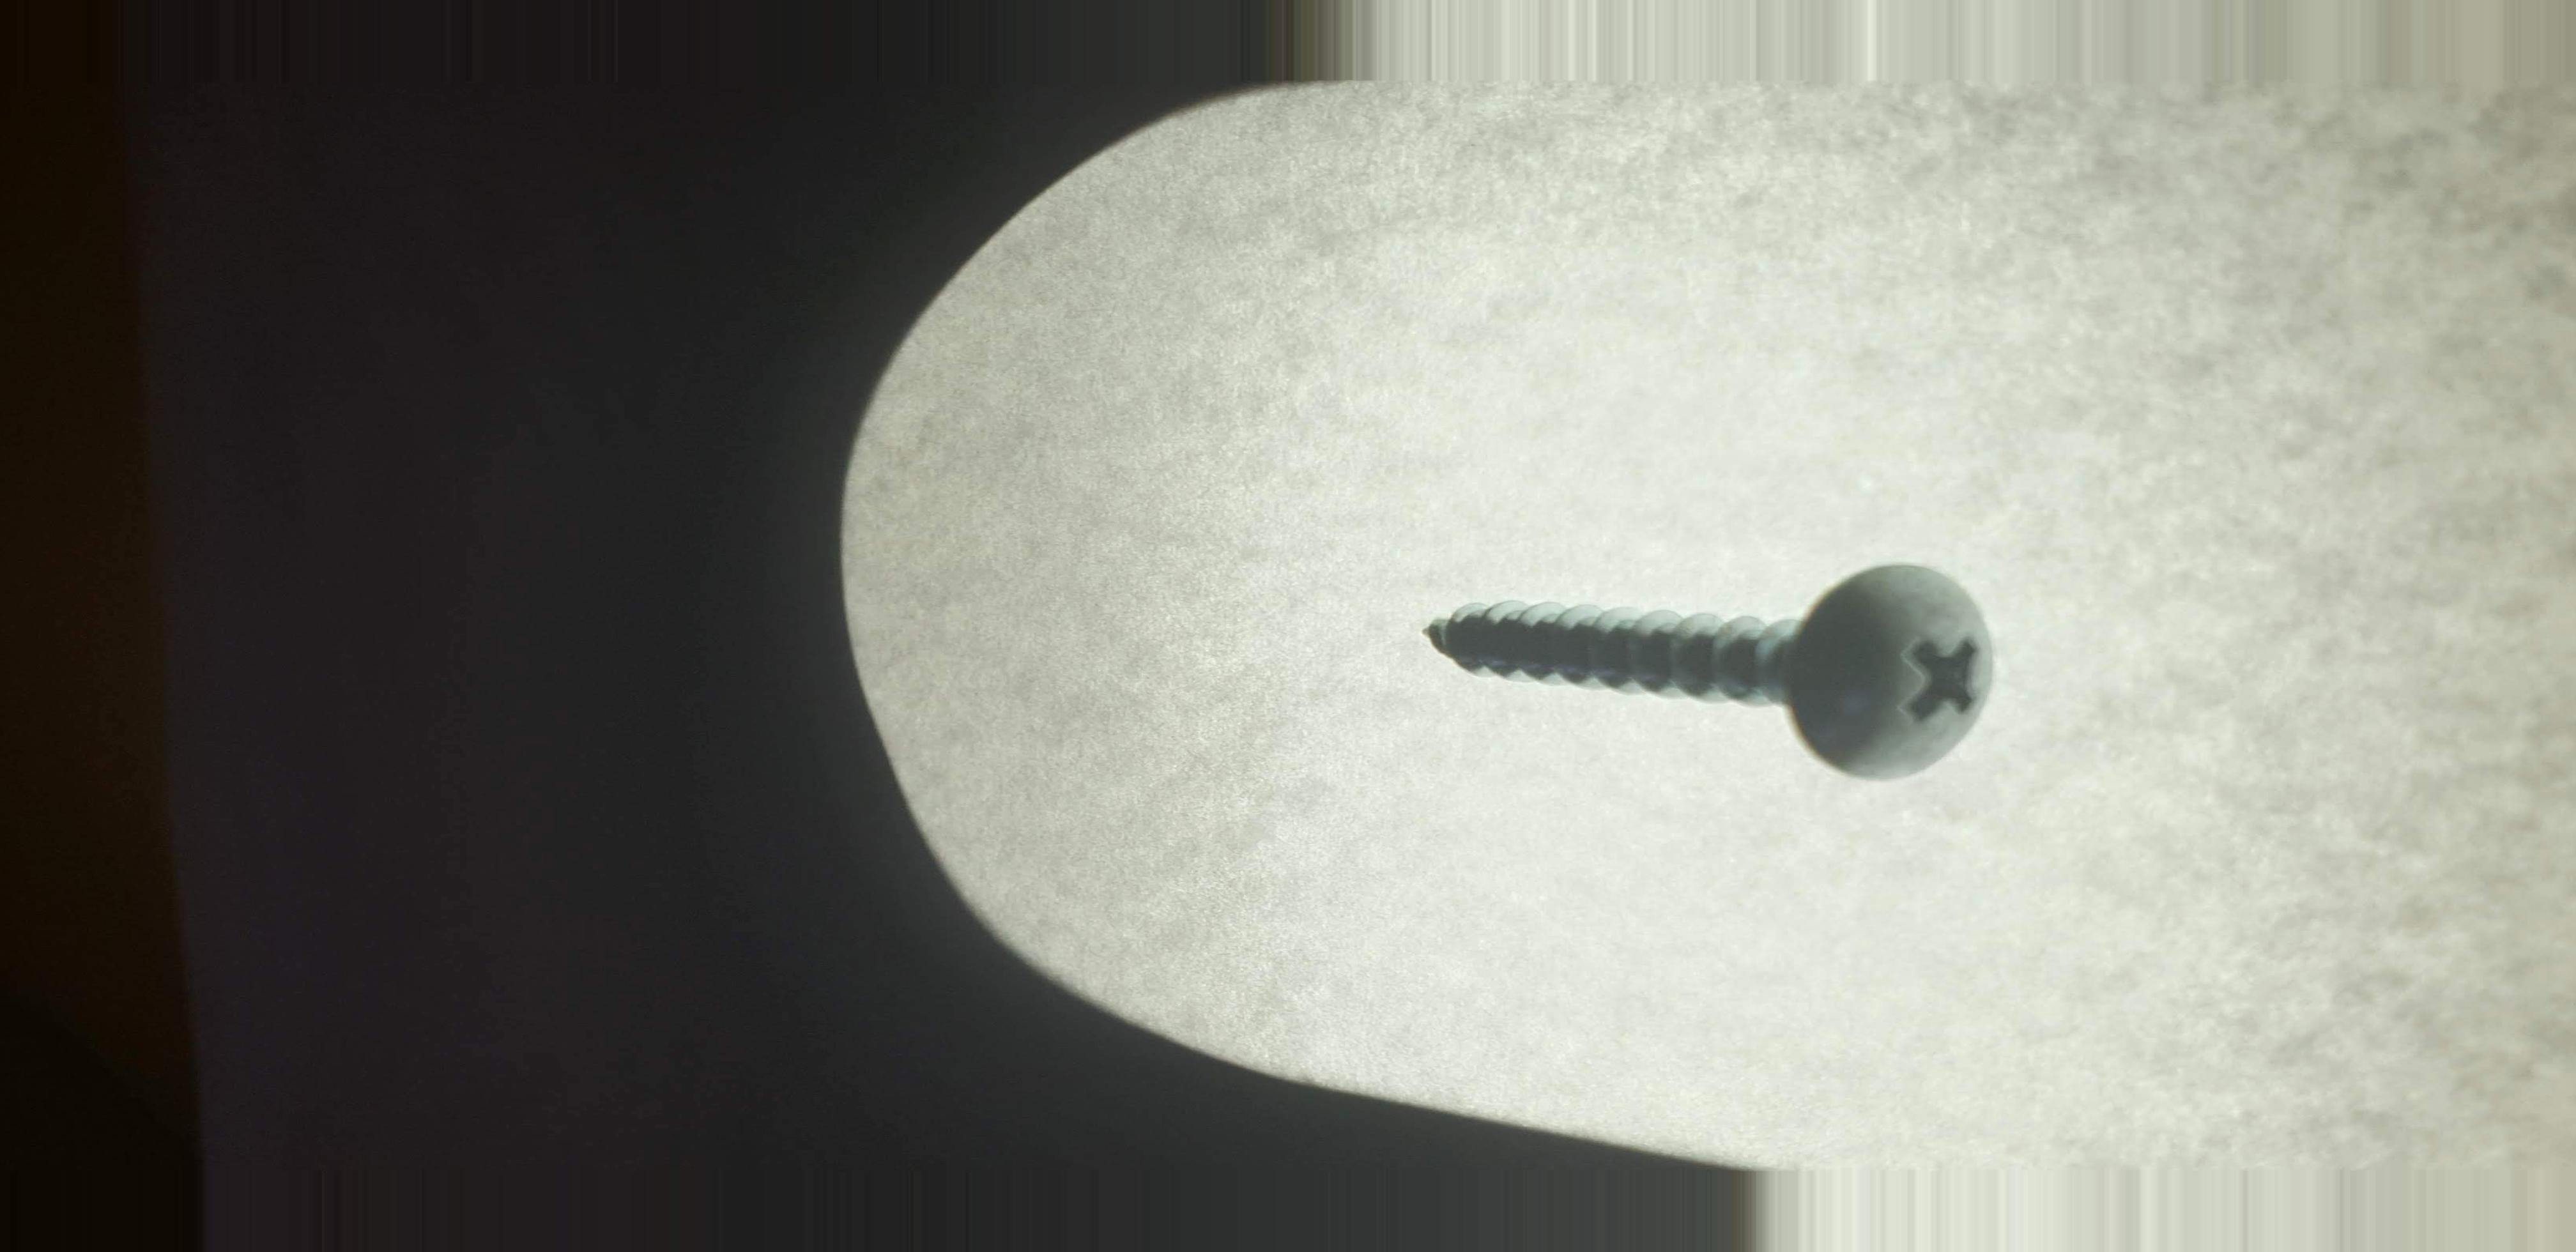S002: (1364, 476, 2104, 828)
